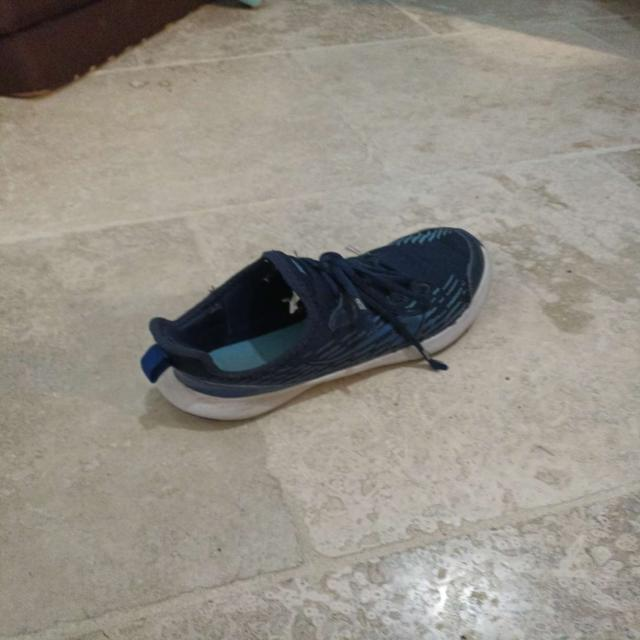shoes: (139, 225, 490, 422)
